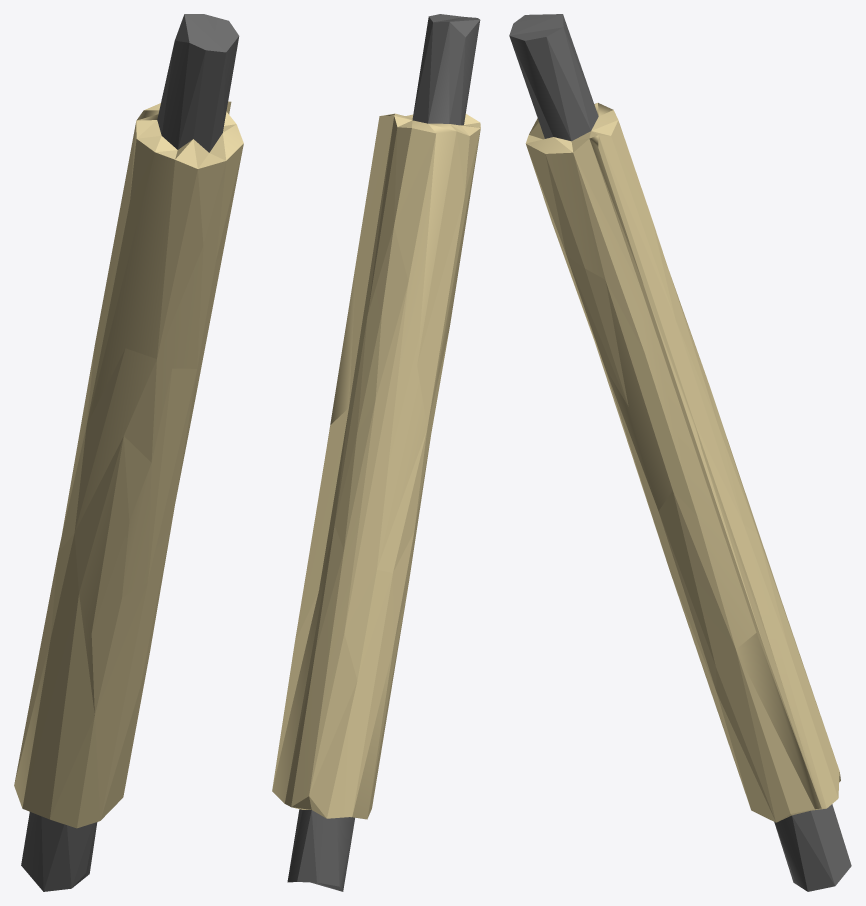
File: Papirus.fbx
3 renders of one model, left to right at view 1: azimuth 30°, elevation 25°; view 2: azimuth 150°, elevation 25°; view 3: azimuth 270°, elevation 25°, orthographic. The views are drawn at different scales.
Parts seen in each view (by area): view 1: Cylinder.006; view 2: Cylinder.006; view 3: Cylinder.006.
Boxes of the visible parts, bbox=[...] form: Cylinder.006: bbox=[14, 14, 243, 891]; Cylinder.006: bbox=[272, 14, 480, 891]; Cylinder.006: bbox=[509, 14, 851, 891].
Size of the model in its own units: 0.1605 by 1.36 by 0.4888.
